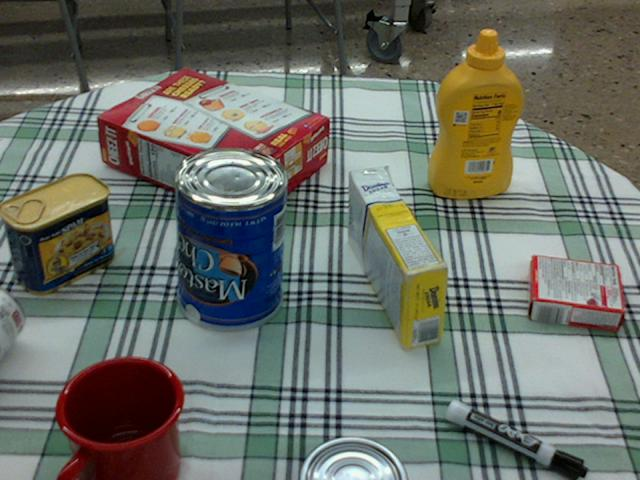cracker_box: (97, 69, 327, 218)
gelatin_box: (527, 256, 622, 331)
large_marker: (445, 399, 586, 479)
master_chef_can: (171, 147, 286, 330)
mug: (50, 354, 178, 479)
mustard_bottle: (426, 30, 522, 197)
potted_meat_can: (0, 173, 113, 294)
sugar_box: (346, 168, 447, 348)
tomato_soup_can: (0, 287, 23, 358)
tuna_fish_can: (295, 438, 405, 479)
